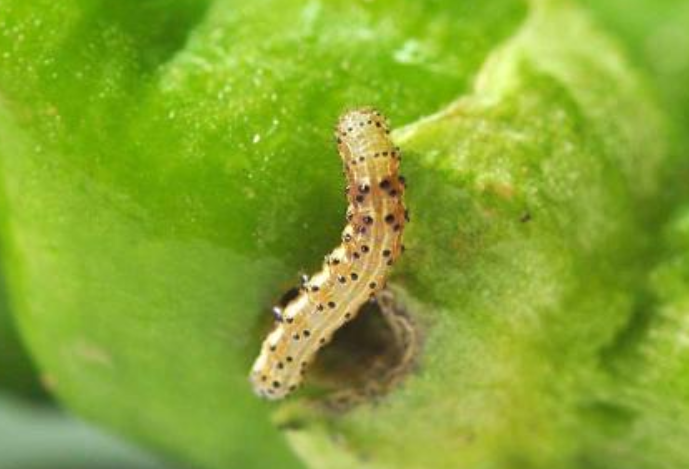Tobacco_budworm: (244, 99, 406, 402)
